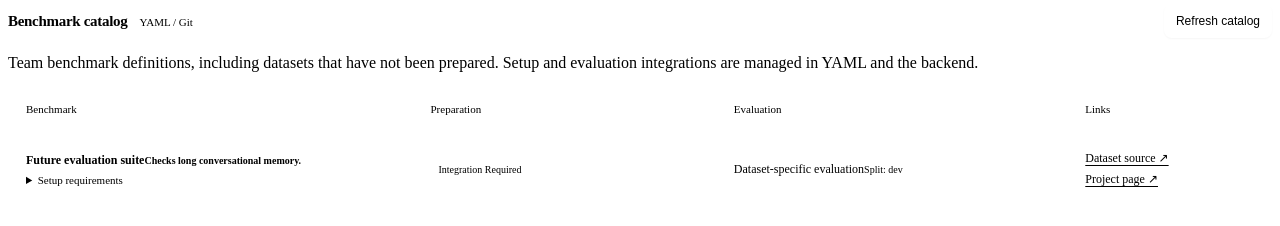
Scenario: Read-only YAML benchmark catalog › shows configured suites before preparation without claiming a runnable evaluator
The image size is (1280, 226).
Expected: the text "Integration required" is shown, x1=438 y1=164 x2=522 y2=174
Expected: the text "Dataset-specific evaluation" is shown, x1=734 y1=162 x2=864 y2=176
Click the heading "Setup requirements".
click(80, 180)  # box x1=38 y1=174 x2=123 y2=186
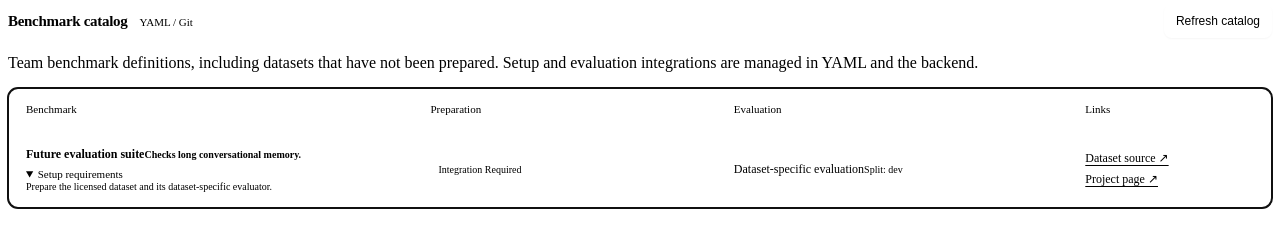
Now the text "Prepare the licensed dataset" is shown, box x1=26 y1=180 x2=272 y2=192
Now the column headings read "Benchmark", "Preparation", "Evaluation", "Links", in this order, box x1=8 y1=88 x2=412 y2=130; x1=412 y1=88 x2=716 y2=130; x1=716 y1=88 x2=1067 y2=130; x1=1067 y1=88 x2=1272 y2=130
